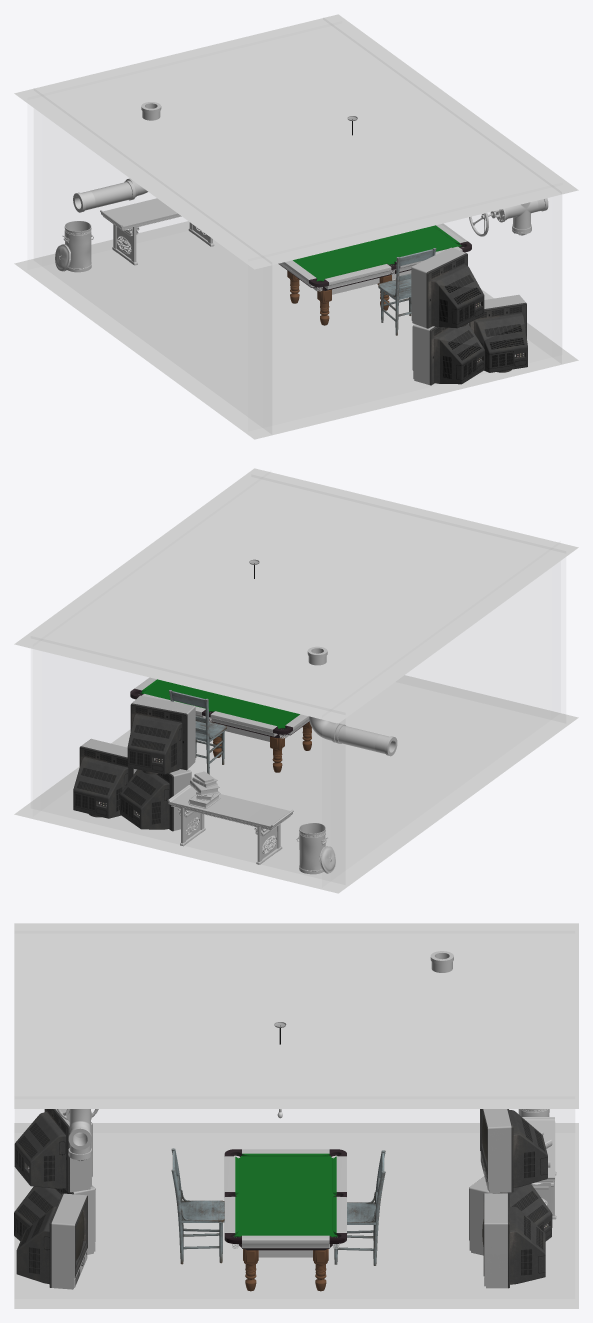
The model's file is twentyone.fbx.
3 views of the same model, one above another, from view 1: azimuth 30°, elevation 25°; view 2: azimuth 150°, elevation 25°; view 3: azimuth 270°, elevation 25° (orthographic). The views are drawn at different scales.
Visible parts, largest first — view 1: Plane.001, Plane, table, television_02.005, television_02.004, television_02.003, chinese_console_table, painted_wooden_chair_02.001, metal_trash_can_rust, Pipe_4, Pipe_2; view 2: Plane.001, Plane, table, television_02.002, chinese_console_table, television_02, television_02.001, painted_wooden_chair_02, metal_trash_can_rust, Pipe_4; view 3: Plane.001, Plane, table, television_02.003, television_02, television_02.002, television_02.005, television_02.001, painted_wooden_chair_02.001, television_02.004, painted_wooden_chair_02, chinese_console_table (+1 smaller).
Boxes of the visible parts, x1=… form: Plane.001: x1=14, y1=14, x2=578, y2=269; Plane: x1=14, y1=221, x2=578, y2=439; table: x1=278, y1=223, x2=471, y2=325; television_02.005: x1=411, y1=247, x2=484, y2=328; television_02.004: x1=412, y1=324, x2=484, y2=385; television_02.003: x1=468, y1=294, x2=527, y2=372; chinese_console_table: x1=100, y1=198, x2=214, y2=265; painted_wooden_chair_02.001: x1=378, y1=248, x2=436, y2=335; metal_trash_can_rust: x1=63, y1=221, x2=92, y2=272; Pipe_4: x1=73, y1=180, x2=135, y2=212; Pipe_2: x1=505, y1=198, x2=548, y2=232; Plane.001: x1=14, y1=468, x2=578, y2=723; Plane: x1=14, y1=675, x2=578, y2=893; table: x1=130, y1=677, x2=311, y2=772; television_02.002: x1=127, y1=695, x2=195, y2=774; chinese_console_table: x1=167, y1=785, x2=293, y2=864; television_02: x1=73, y1=738, x2=136, y2=818; television_02.001: x1=120, y1=769, x2=191, y2=831; painted_wooden_chair_02: x1=169, y1=690, x2=226, y2=774; metal_trash_can_rust: x1=298, y1=823, x2=326, y2=874; Pipe_4: x1=335, y1=724, x2=397, y2=756; Plane.001: x1=14, y1=923, x2=578, y2=1108; Plane: x1=14, y1=1123, x2=578, y2=1308; table: x1=224, y1=1149, x2=346, y2=1291; television_02.003: x1=16, y1=1193, x2=87, y2=1289; television_02: x1=482, y1=1193, x2=545, y2=1288; television_02.002: x1=480, y1=1109, x2=547, y2=1193; television_02.005: x1=14, y1=1109, x2=92, y2=1192; television_02.001: x1=469, y1=1176, x2=552, y2=1255; painted_wooden_chair_02.001: x1=171, y1=1148, x2=224, y2=1264; television_02.004: x1=14, y1=1185, x2=95, y2=1254; painted_wooden_chair_02: x1=334, y1=1150, x2=385, y2=1265; chinese_console_table: x1=522, y1=1117, x2=556, y2=1219.
Size of the model in its own units: 5.3 by 2.96 by 6.81.
